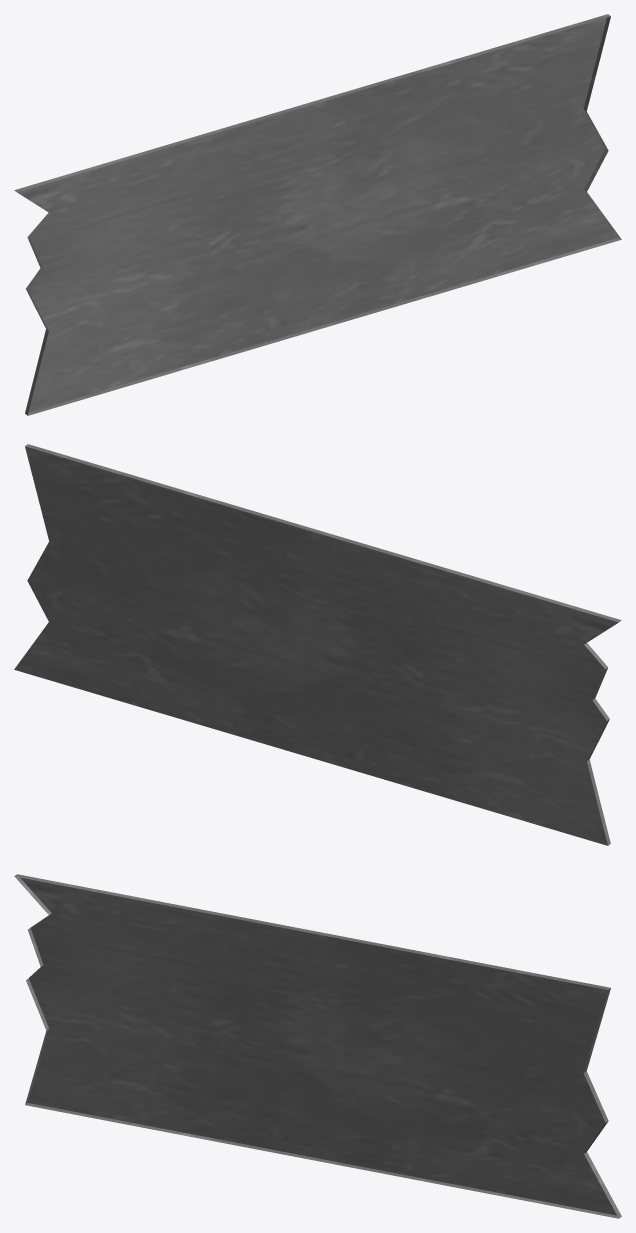
File: Cinta.fbx
3 renders of one model, top to bottom at view 1: azimuth 30°, elevation 25°; view 2: azimuth 150°, elevation 25°; view 3: azimuth 330°, elevation 25°, orthographic.
Visible parts, largest first — view 1: Cinta; view 2: Cinta; view 3: Cinta.
Part boxes in pixels (<box>): Cinta: <box>14,14,621,415</box>; Cinta: <box>14,444,621,845</box>; Cinta: <box>14,874,621,1218</box>.
Size of the model in its own units: 11.19 by 4.55 by 0.1.
